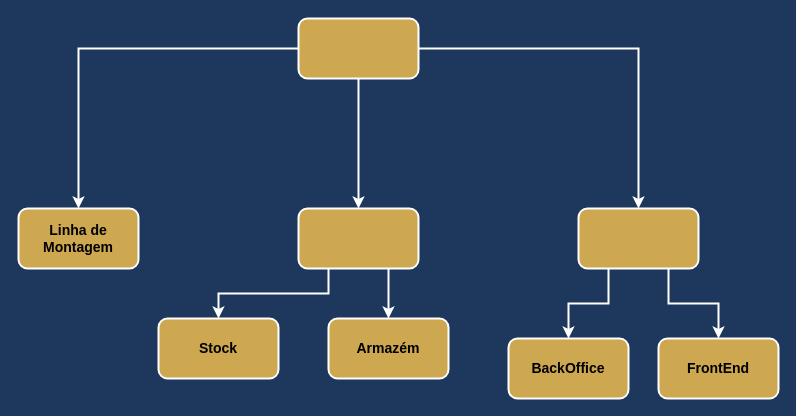
Image size: 796x416. Some labels were removed from this diagram. The box of each missing label's shape, as (x1, y1, x2, y2) in pixels:
Aplicação: (297, 17, 419, 79)
Armazenamento: (297, 207, 419, 269)
Encomendas: (577, 207, 699, 269)
